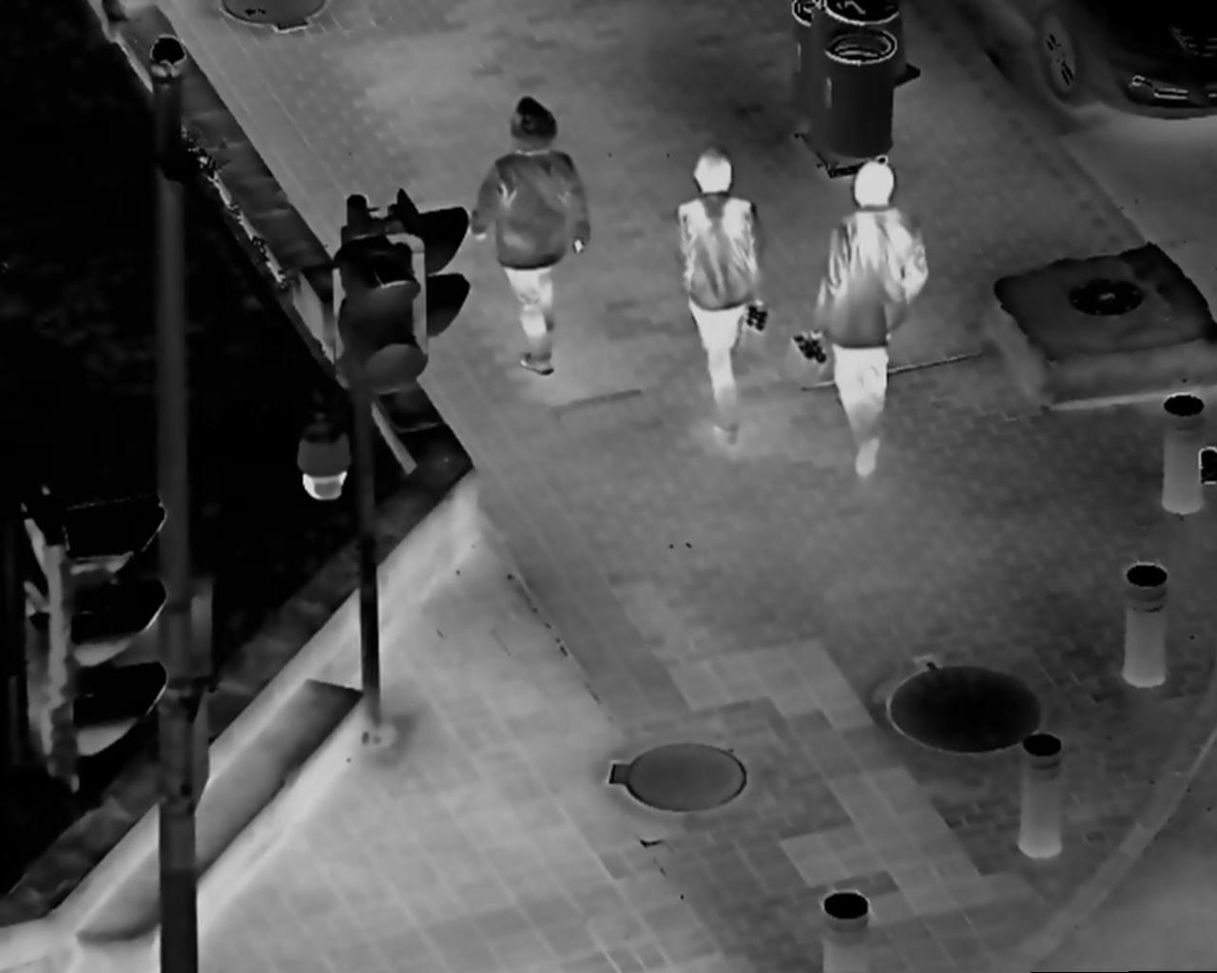person: (793, 153, 931, 484), (467, 94, 589, 383), (659, 143, 768, 463)
